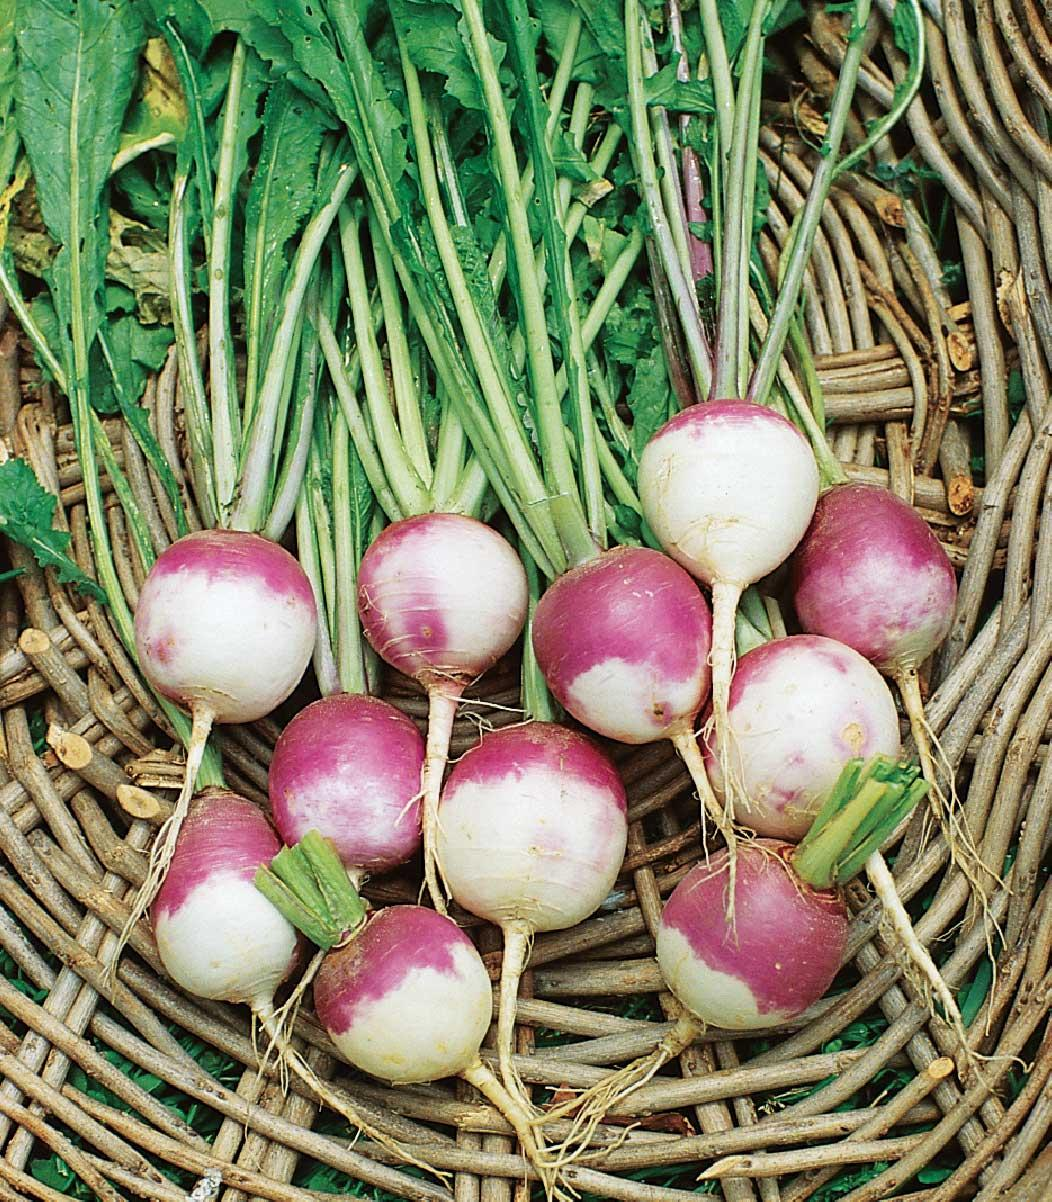turnip: (632, 1, 822, 785), (431, 719, 628, 1198), (543, 835, 851, 1138), (267, 370, 425, 889), (311, 902, 576, 1199), (355, 510, 527, 917), (635, 396, 820, 765), (790, 480, 957, 675), (267, 689, 425, 885)
